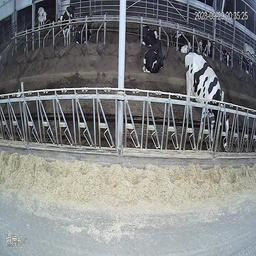cow: (181, 49, 233, 149), (141, 30, 164, 74), (58, 5, 76, 44), (172, 25, 191, 56), (75, 20, 93, 43), (36, 3, 49, 33), (222, 41, 234, 73), (198, 36, 211, 58)
